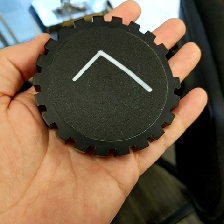gear: (31, 14, 182, 159)
missing: (156, 42, 182, 91)
